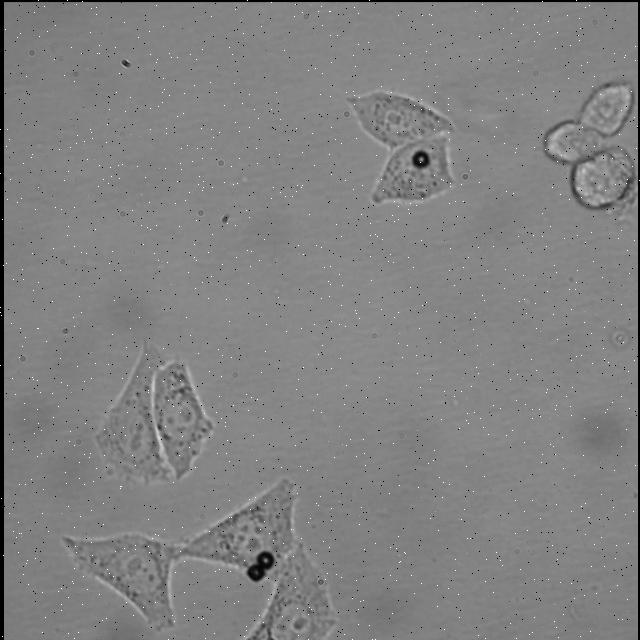microbeads: (245, 563, 265, 587), (412, 150, 431, 168), (255, 552, 272, 568)
